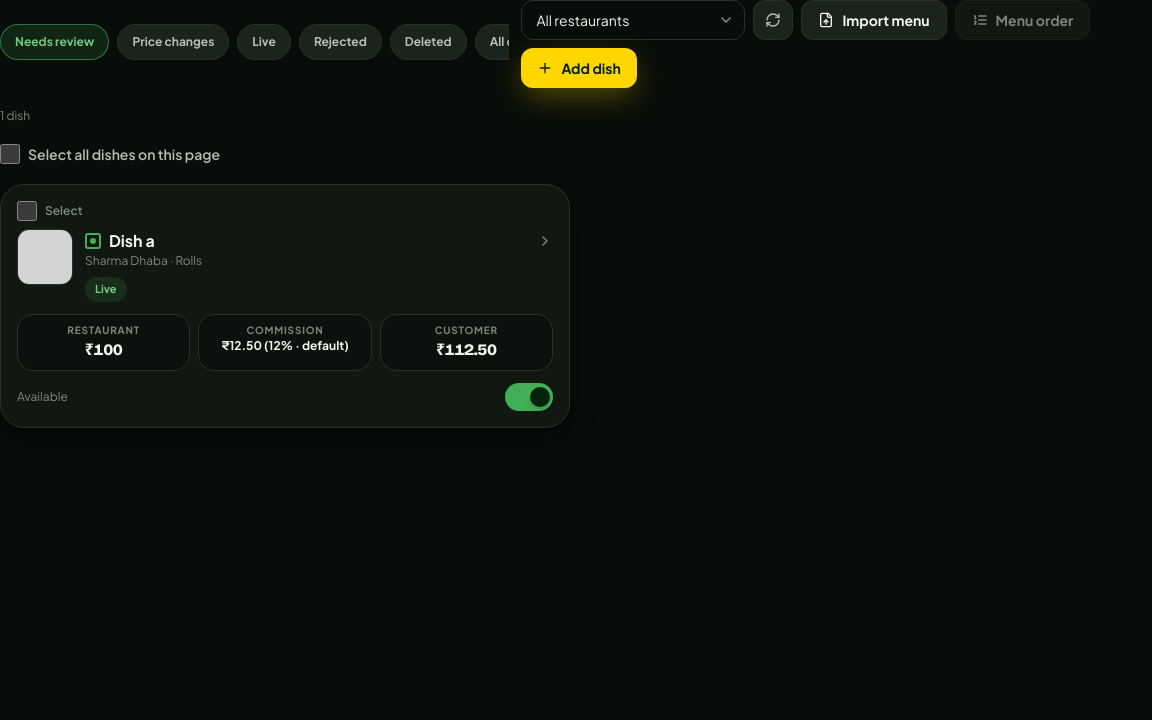
Test: CatalogPanel › Add dish opens the empty form
This screenshot has width=1152, height=720.
Click the button "Add dish". click: (579, 68)
box: [521, 48, 637, 88]
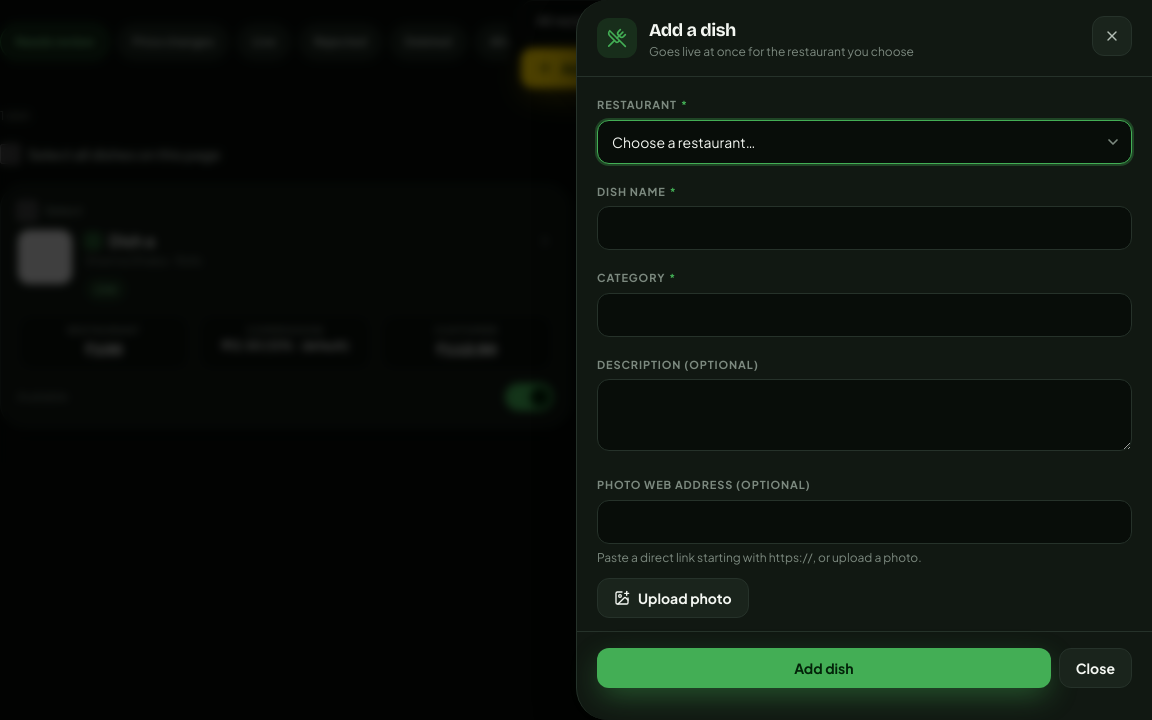
Now the dialog shows "Add a dish", box [649, 19, 736, 41]
